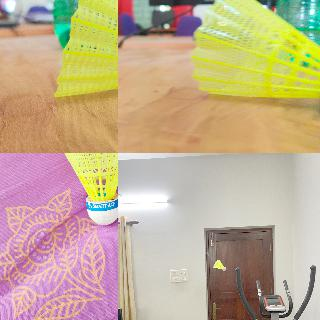shuttlecock: (190, 0, 319, 113), (53, 0, 117, 95), (51, 153, 117, 225), (212, 260, 225, 270)
